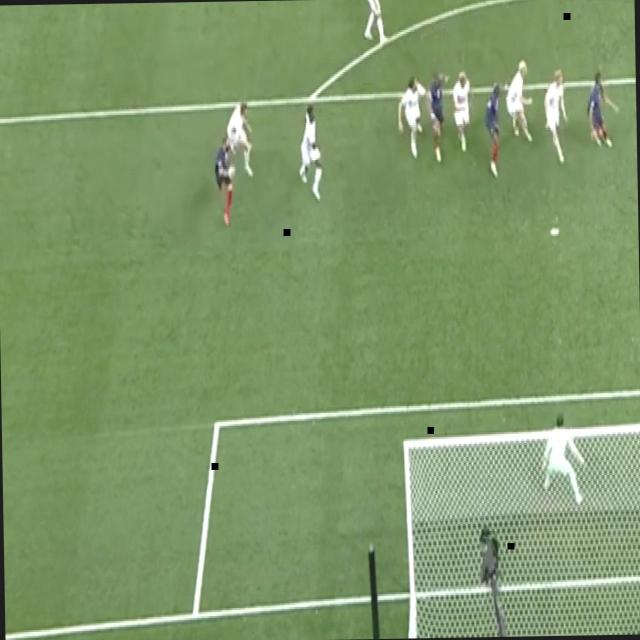player-white: (540, 409, 588, 509), (584, 71, 621, 150), (296, 102, 325, 202), (504, 58, 536, 146), (542, 66, 570, 166), (396, 74, 428, 160), (428, 65, 453, 169), (482, 81, 507, 183), (212, 130, 238, 228), (448, 67, 476, 155), (225, 99, 255, 181), (360, 0, 390, 51)
